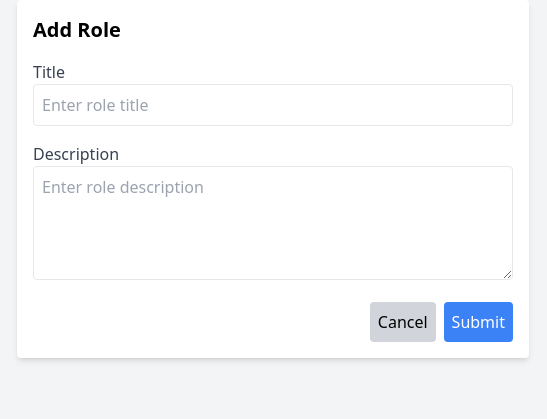
Scenario: RoleForm › displays error on submission failure
Type "Manager" into the field labelled "Title". click: (273, 105)
box: [33,84,513,126]
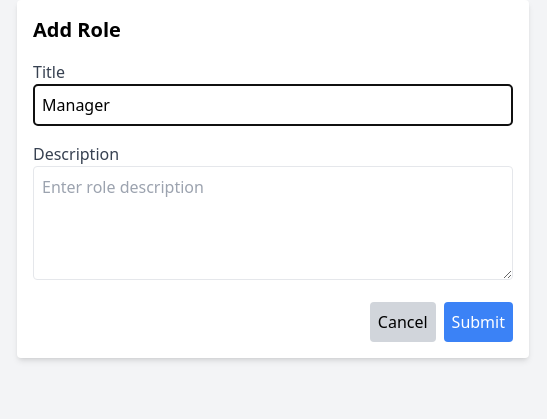
Click the button "Submit". click: (478, 322)
box: [444,302,513,342]
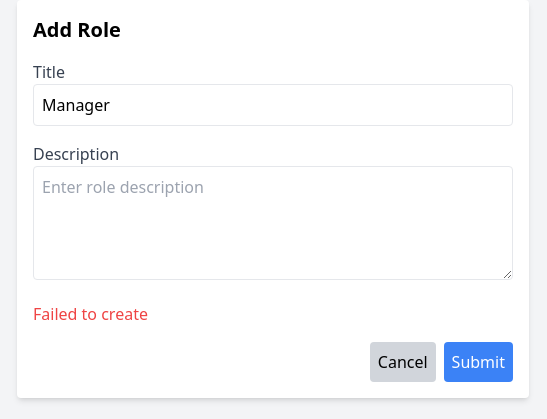
Result: the text "Failed to create" is shown at [33,303,148,325]
